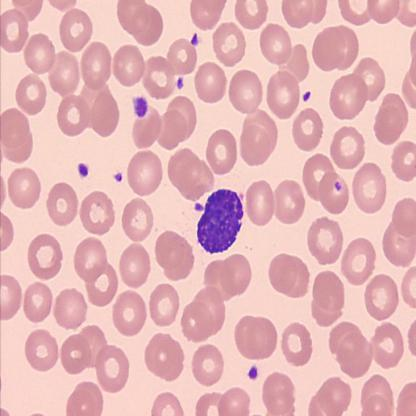Basophil: (192, 183, 246, 256)
